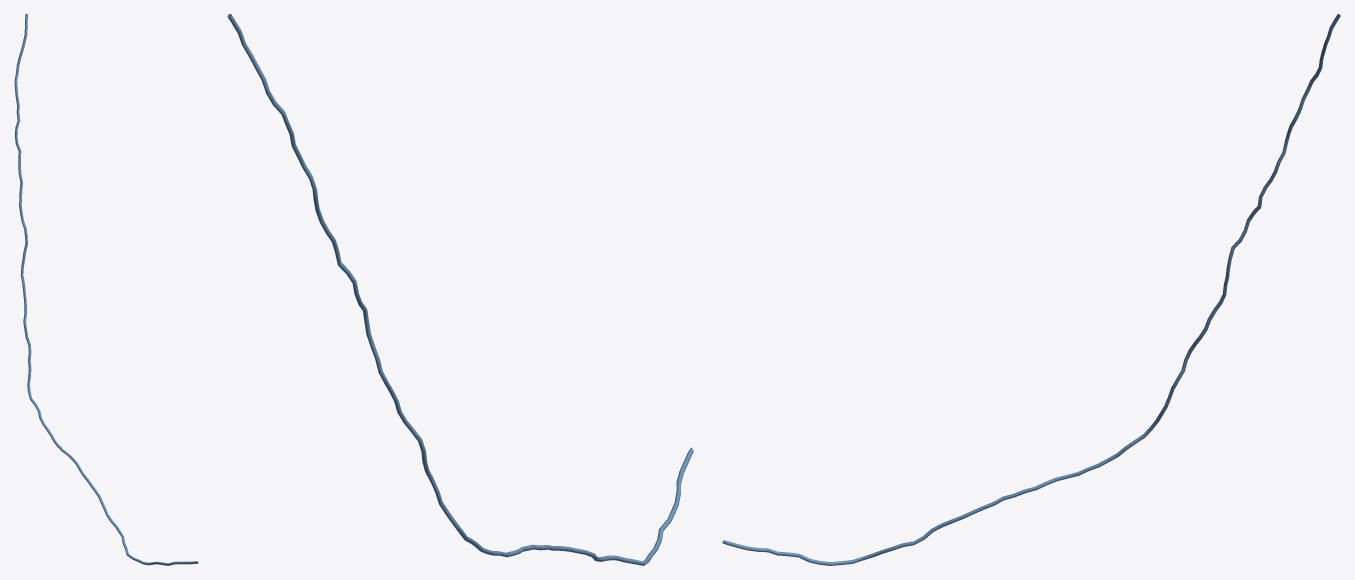
Rendered from sweep208.fbx.
The picture shows the model from 3 angles, left to right: view 1: azimuth 30°, elevation 25°; view 2: azimuth 150°, elevation 25°; view 3: azimuth 270°, elevation 25°; orthographic projection. The views are drawn at different scales.
Visible parts, largest first — view 1: sweep208; view 2: sweep208; view 3: sweep208.
Boxes of the visible parts, box(x1,y1,x2,y2) form: sweep208: box(14, 14, 198, 565); sweep208: box(227, 14, 693, 565); sweep208: box(722, 14, 1340, 565).
Size of the model in its own units: 0.5617 by 3.37 by 3.19.
